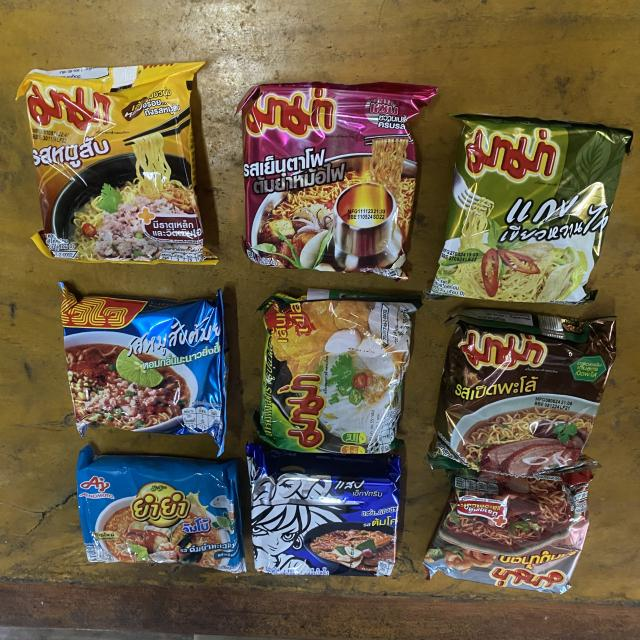plastik: (18, 62, 218, 265), (238, 82, 436, 280), (429, 114, 632, 304), (431, 309, 616, 476), (60, 282, 226, 456), (255, 289, 421, 454), (424, 464, 595, 594), (76, 446, 246, 574), (246, 444, 401, 576)
